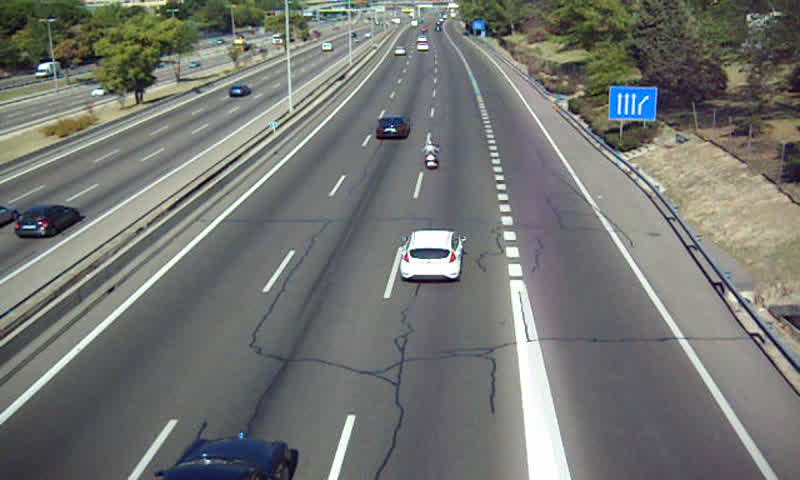car: (400, 231, 462, 279), (375, 116, 411, 140)
motorcycle: (420, 140, 441, 170)
